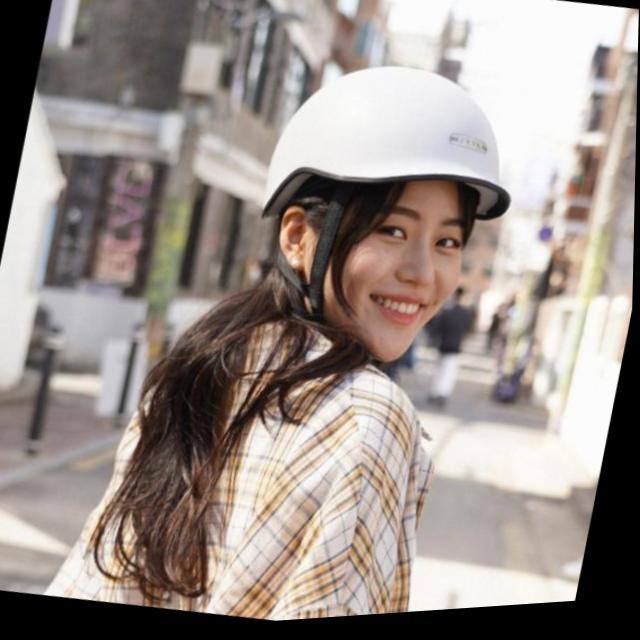helmet: (229, 41, 536, 400)
